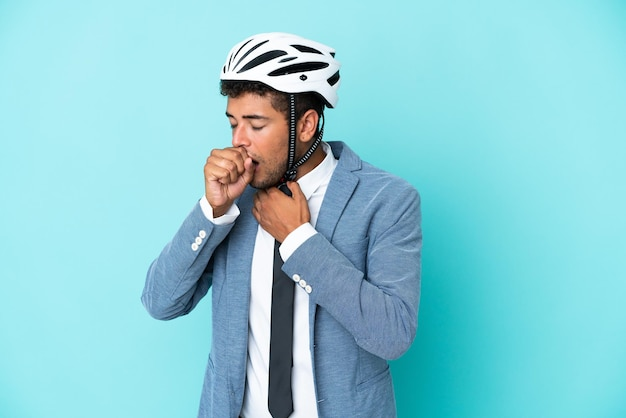helmet: (219, 32, 341, 191)
